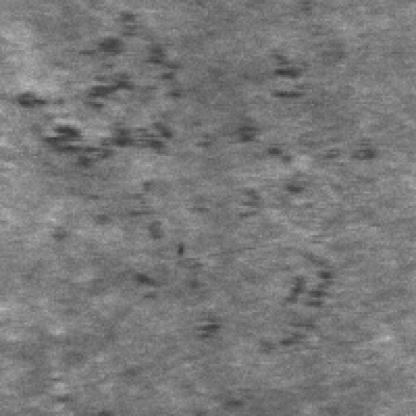rolled-in_scale: (216, 44, 350, 362), (6, 4, 185, 162), (89, 235, 231, 341)
